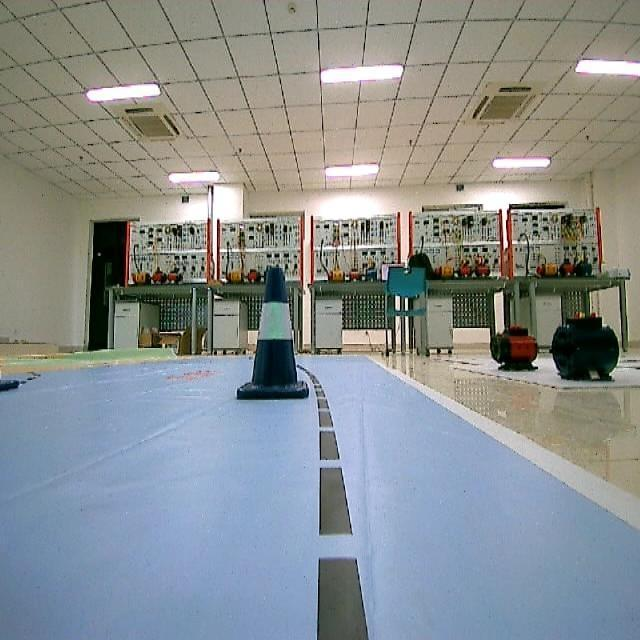obstacle: (236, 262, 316, 408)
